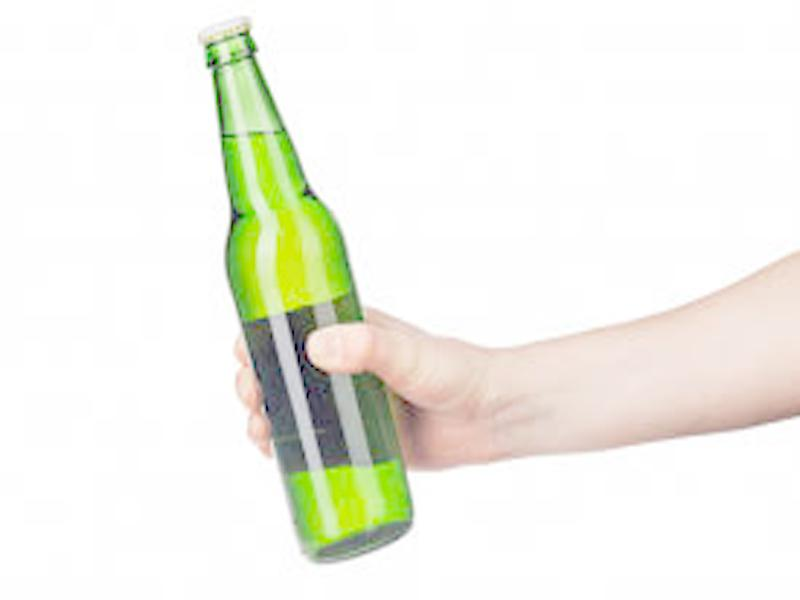Beer: (198, 16, 413, 564)
